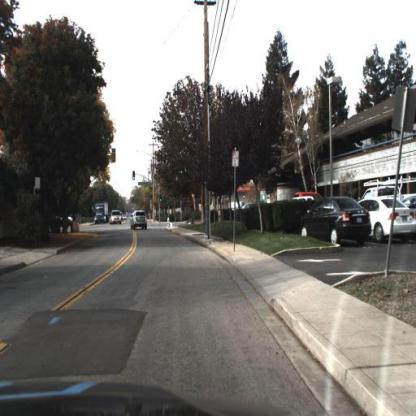car: (299, 197, 369, 242), (353, 196, 416, 244), (132, 208, 148, 234)
